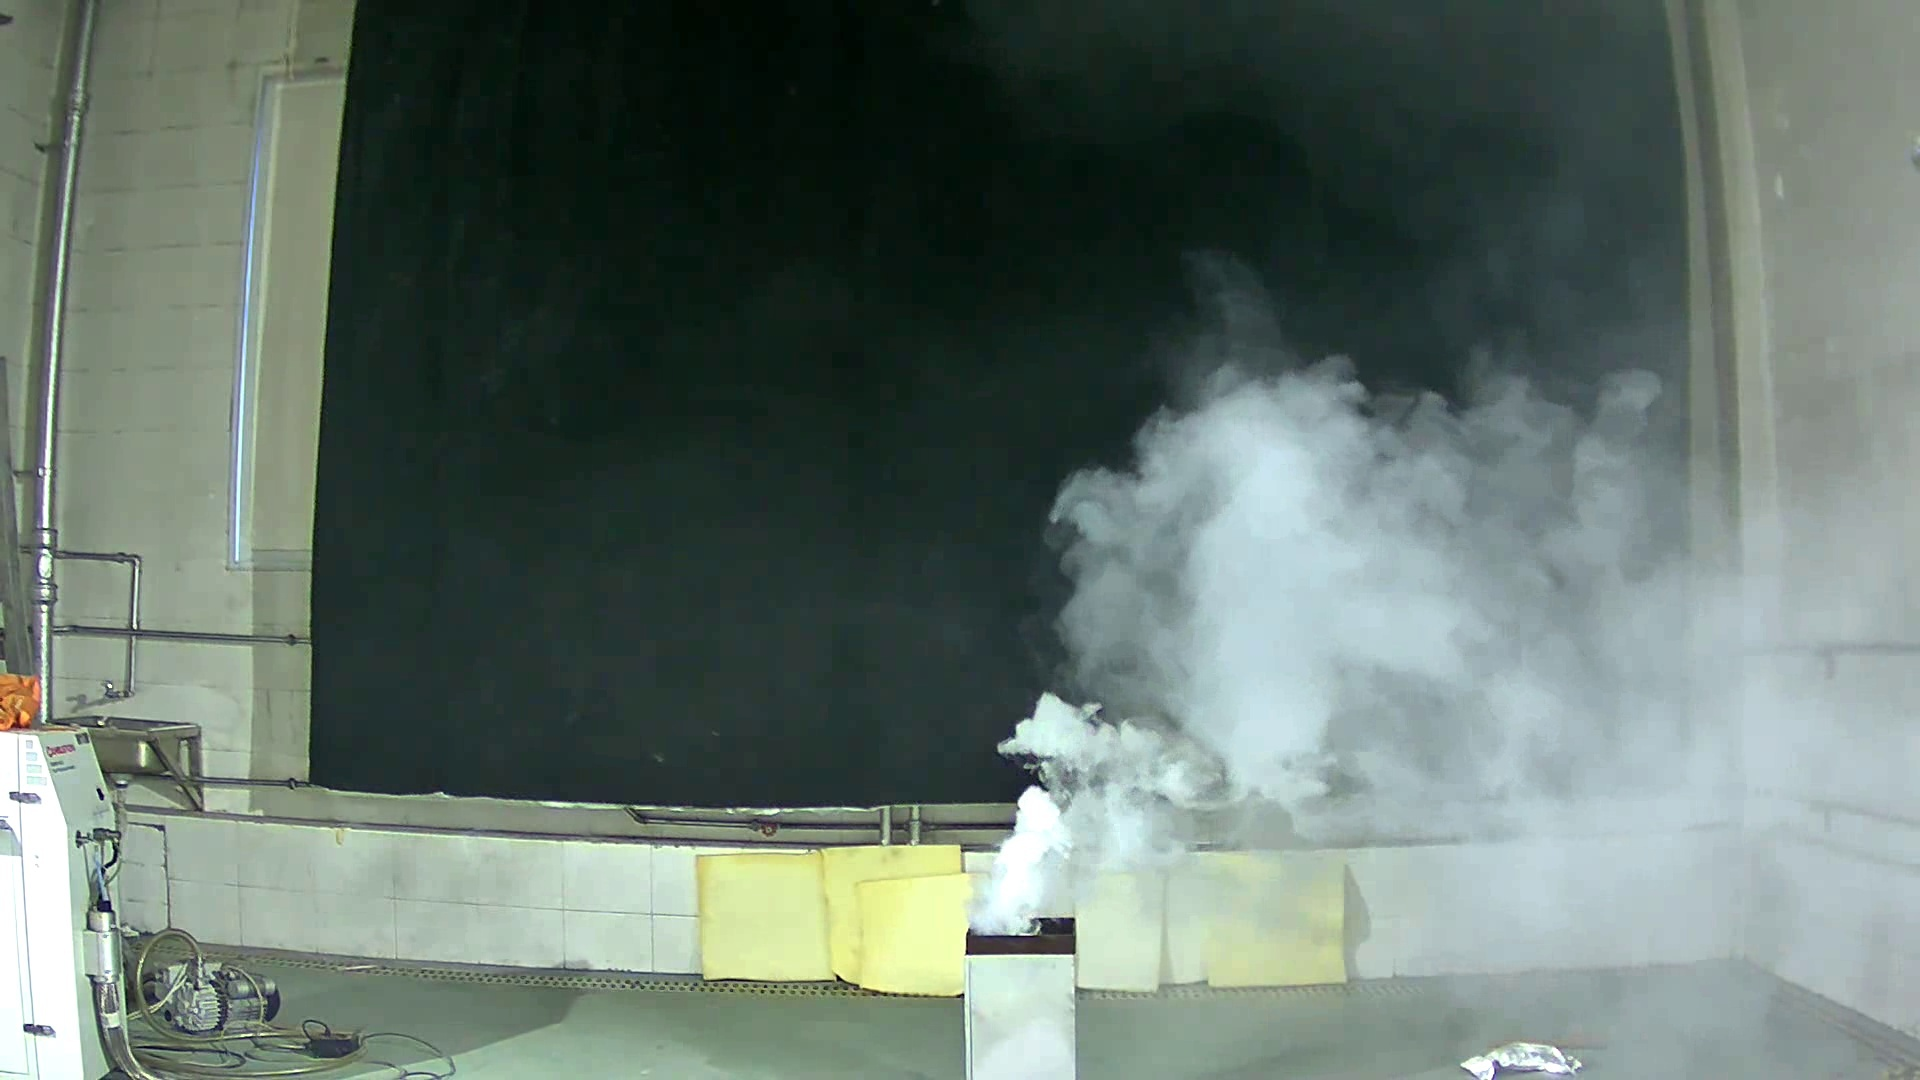smoke: (934, 338, 1698, 930)
